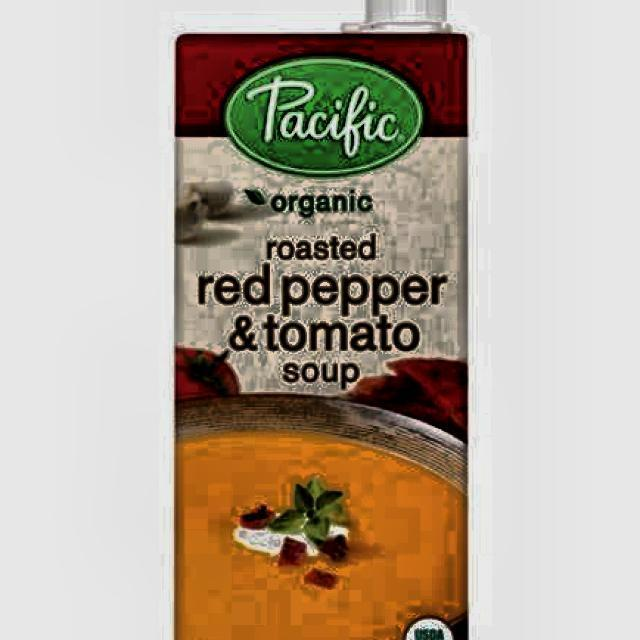cardboard: (172, 28, 469, 640)
